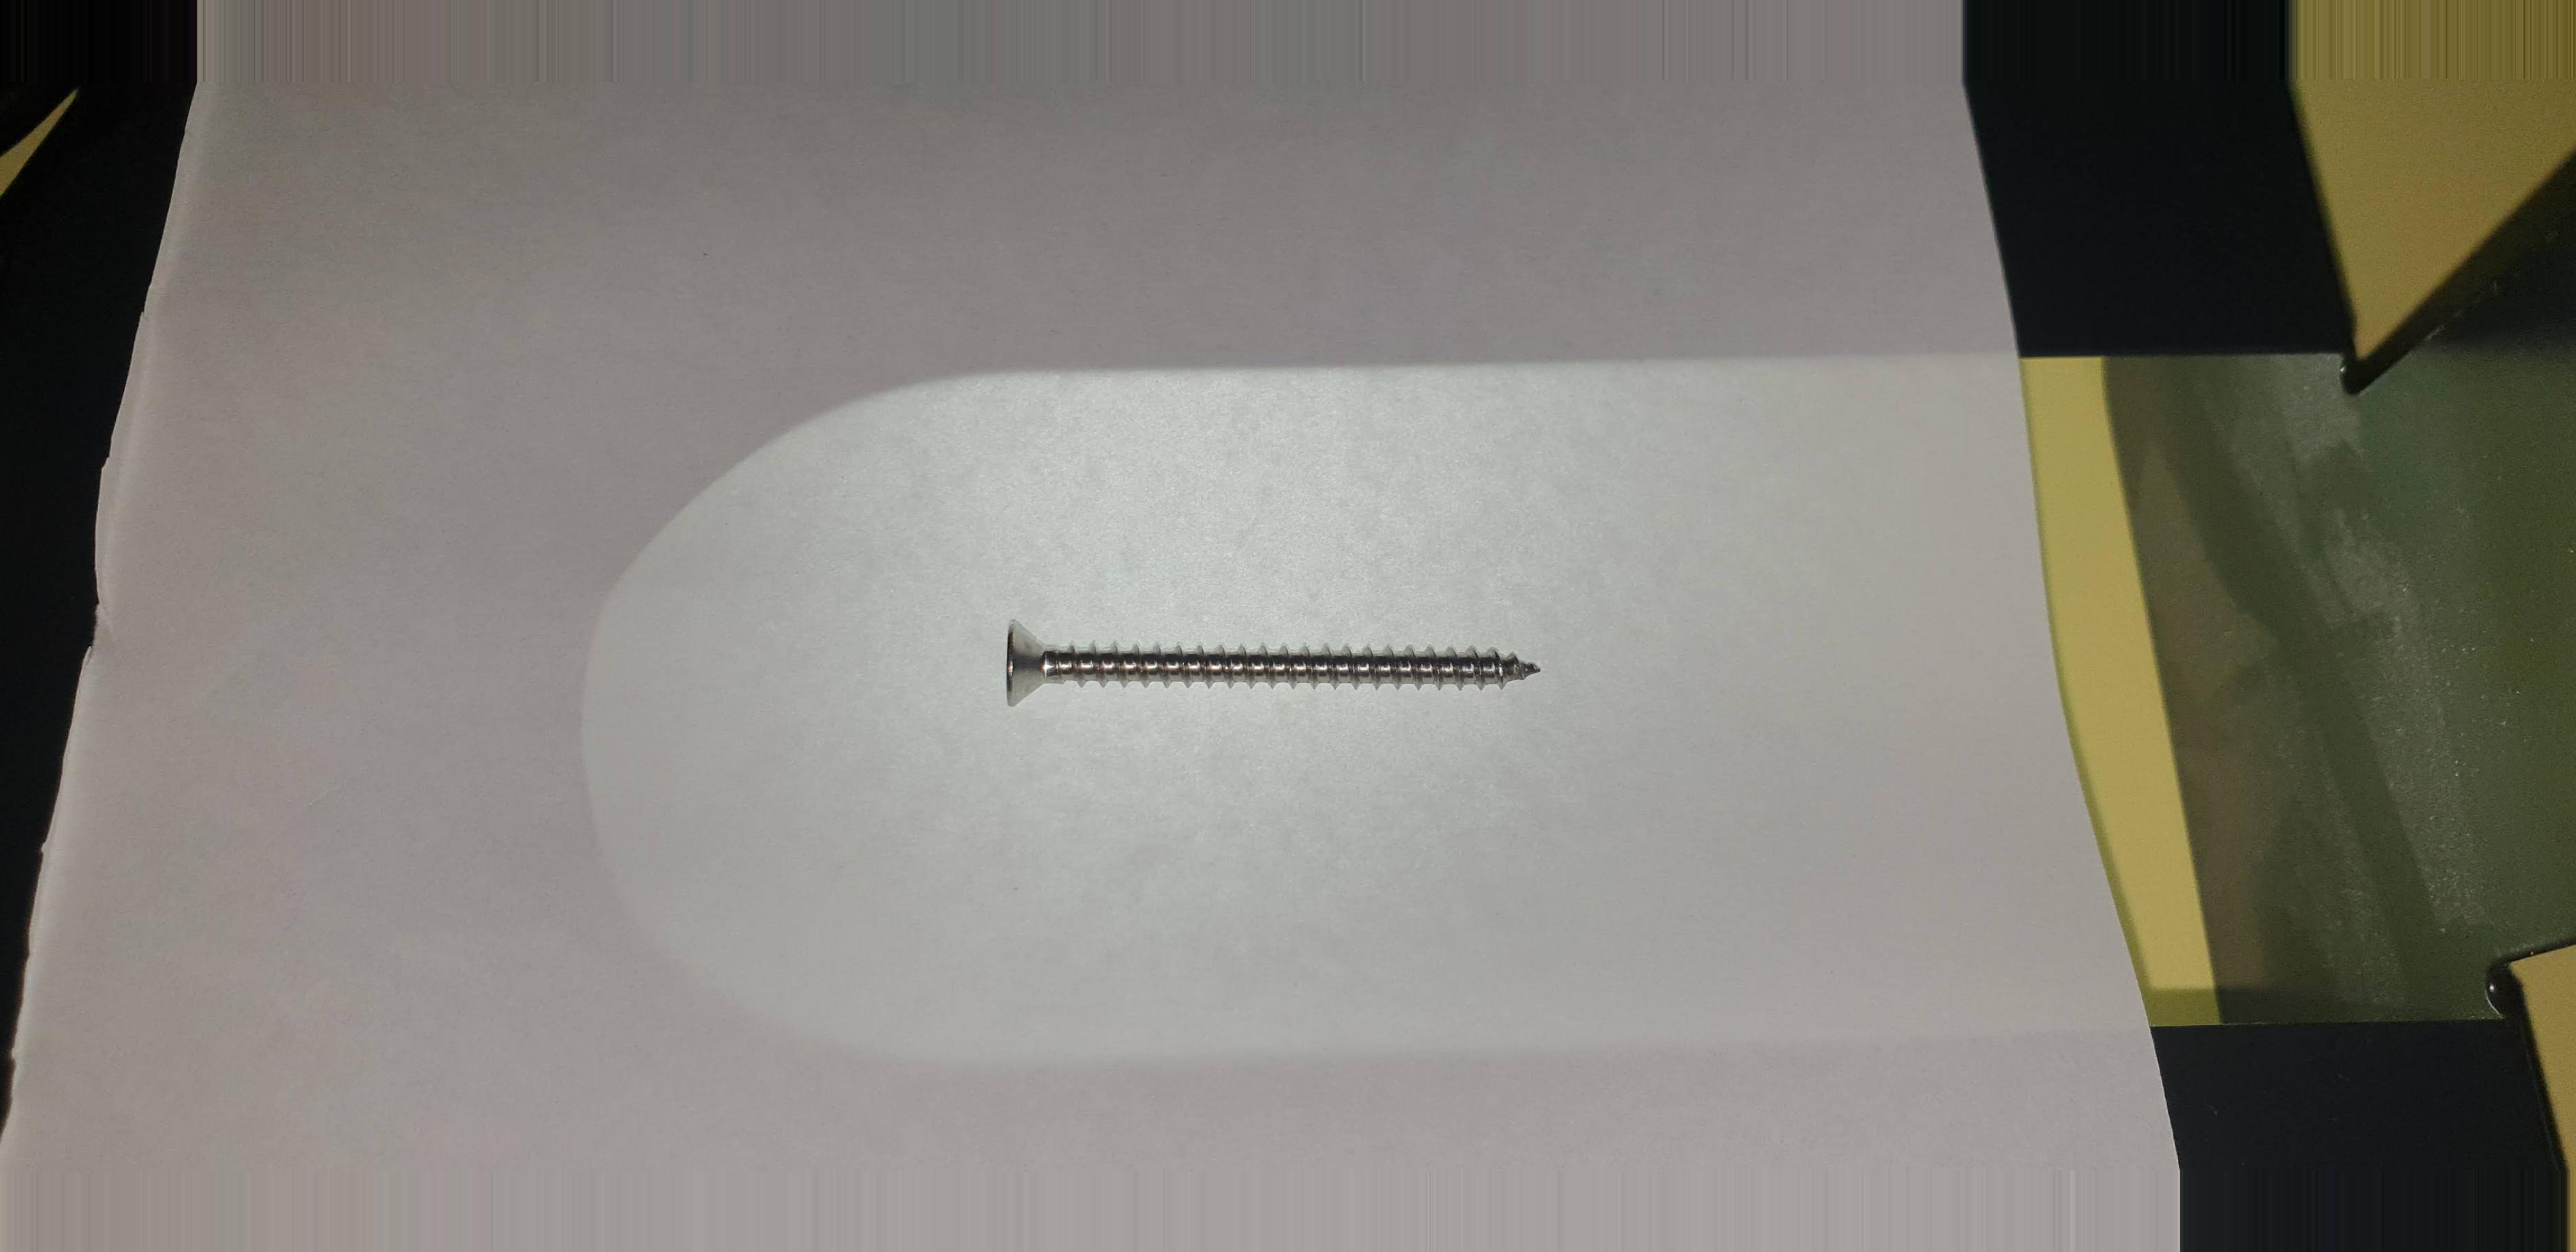fastener: (946, 601, 1617, 733)
